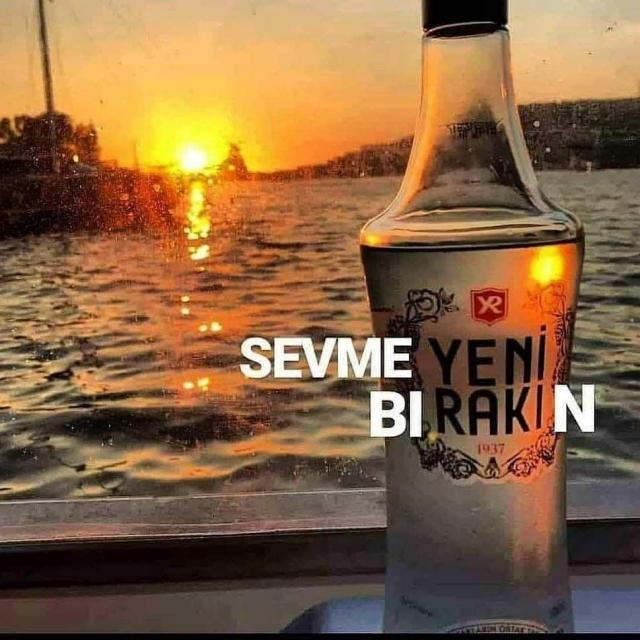bottle-glass: (357, 0, 588, 636)
